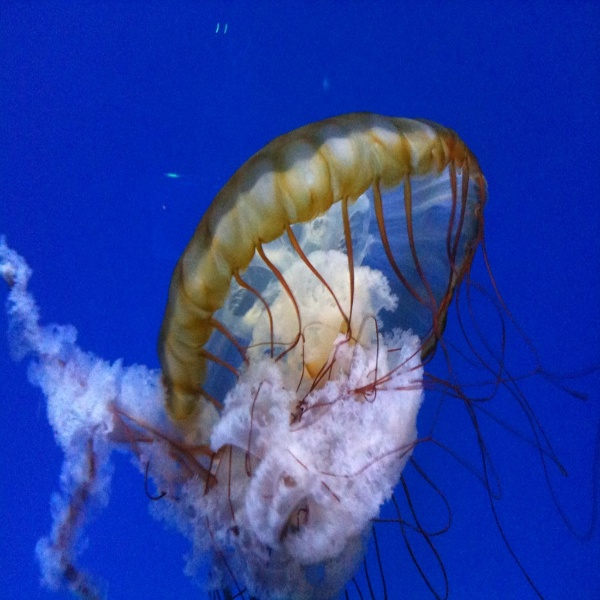Jellyfish: (0, 111, 599, 600)
